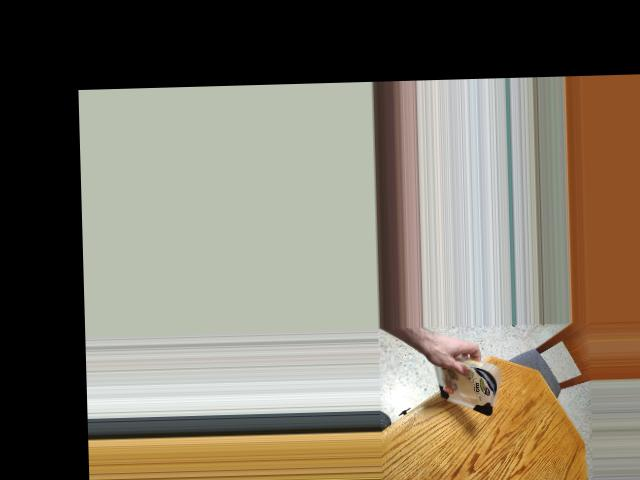cheese: (427, 359, 498, 412)
